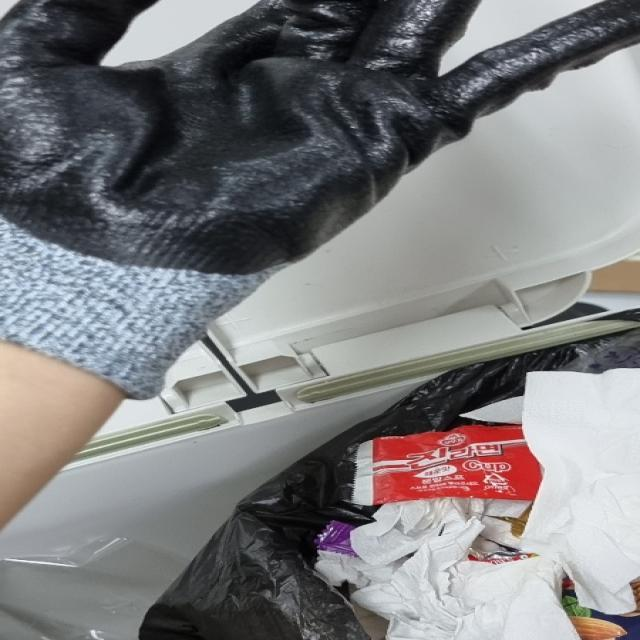Gloves: (0, 0, 639, 405)
